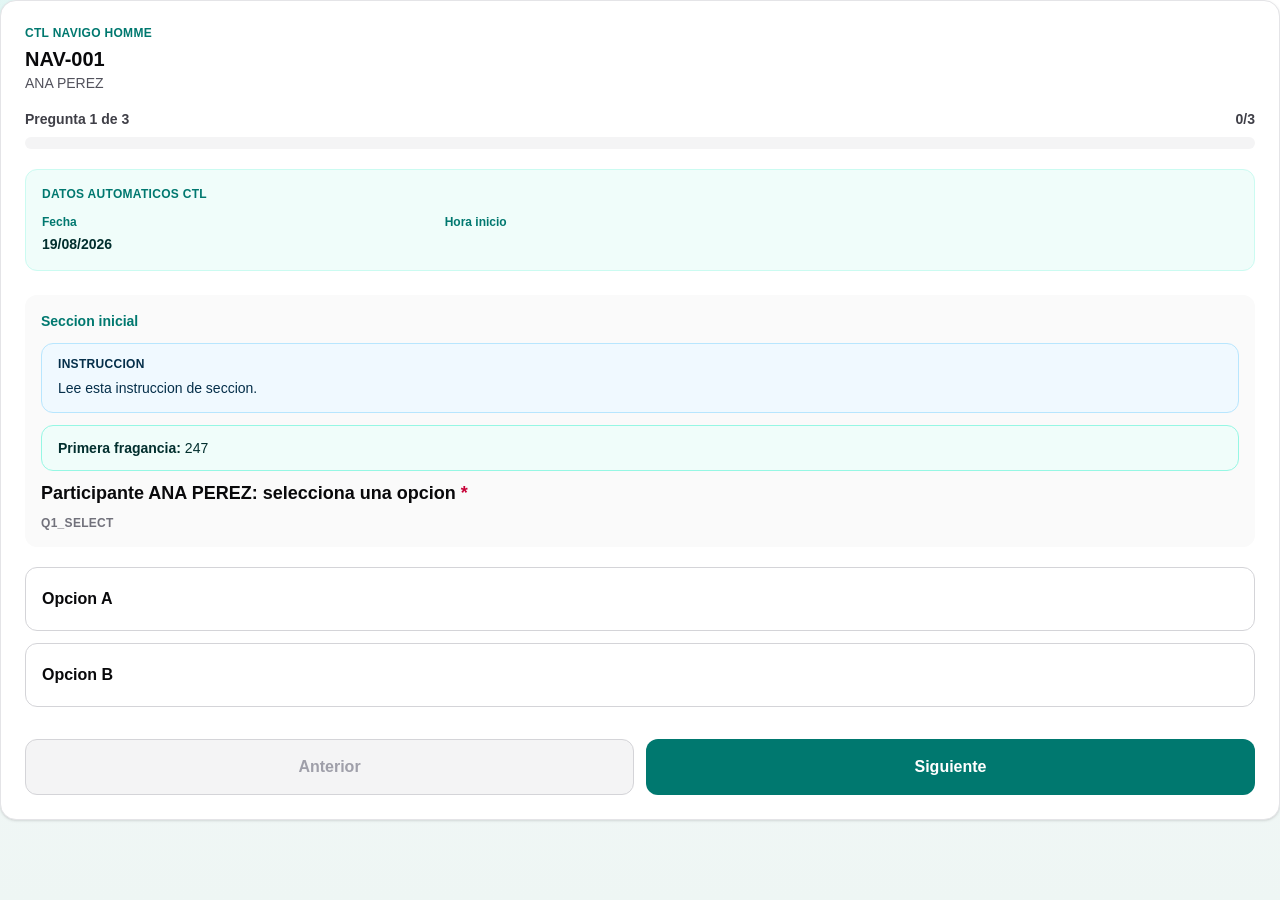
Test: CtlMobileCapture › blocks next when the required answer is empty
What coordinates should you click on to do the following:
click the button "Siguiente"
I would click on:
 (950, 767)
Its box is [646,739,1255,795].
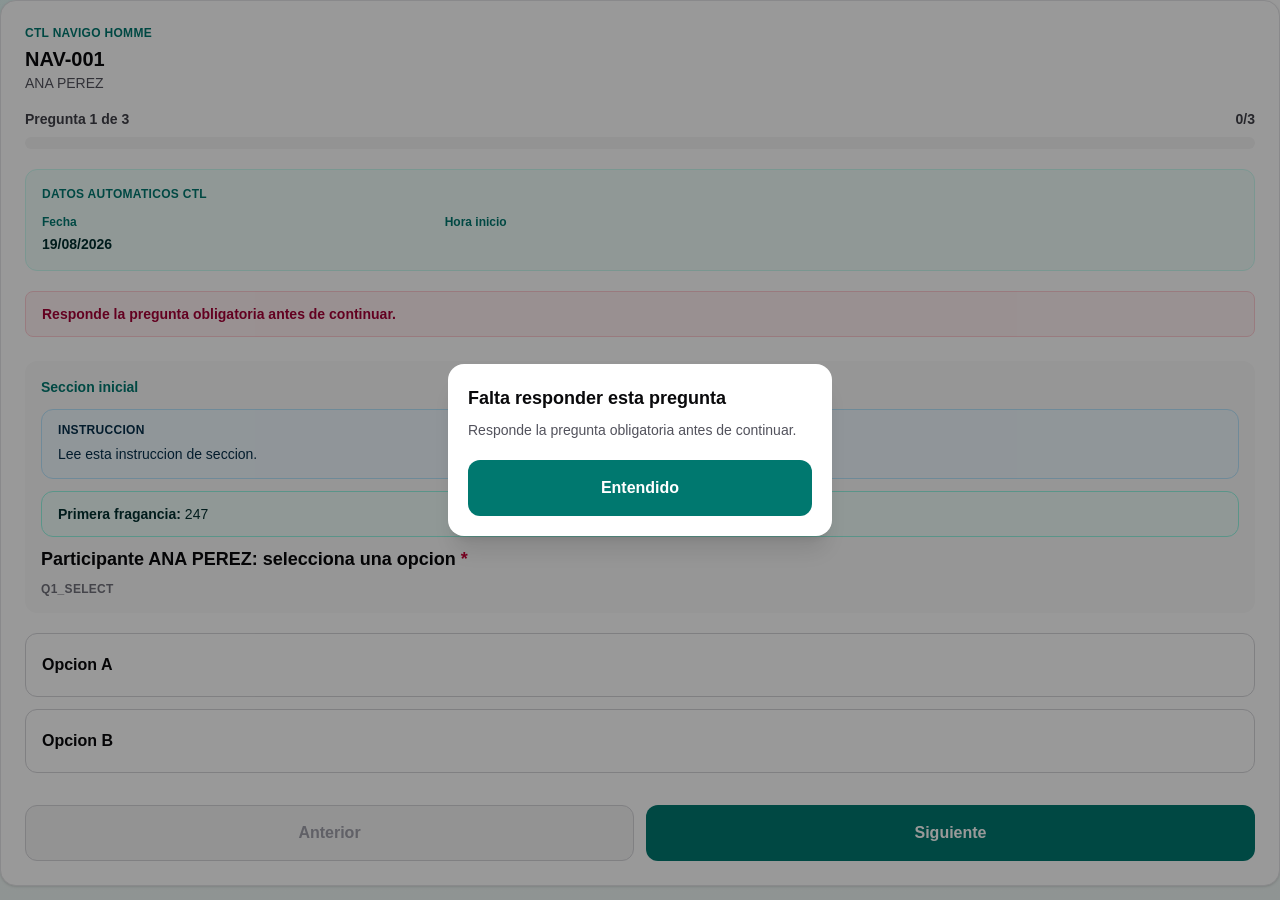
expect the dialog "Falta responder esta pregunta" is shown: met
expect the button "Entendido" is shown: met, box [468,460,812,516]
